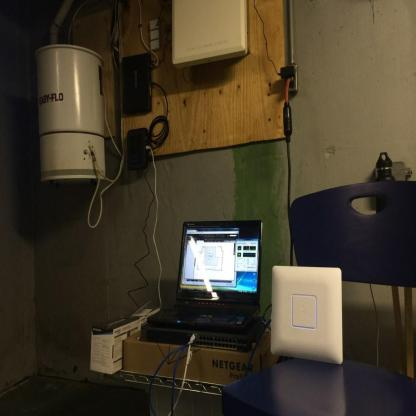board: (166, 216, 268, 345)
